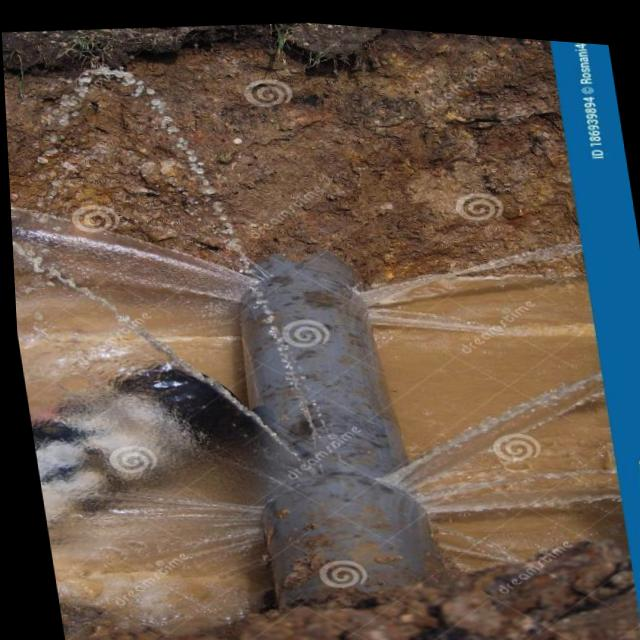leak: (11, 209, 615, 626)
